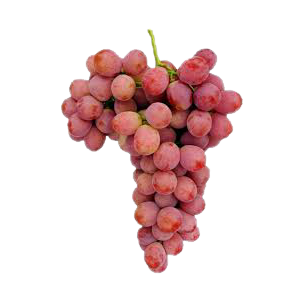Red Grapes: (81, 49, 220, 266)
